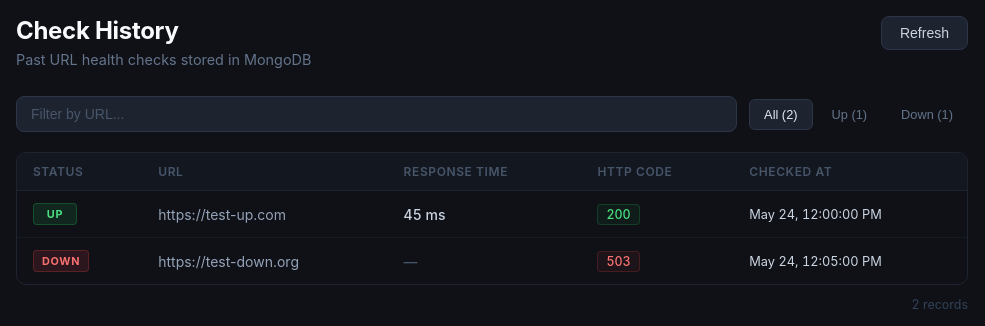
Test case: History Page › url search box filters the list
Expected: the link "https://test-up.com" is shown, [158,206,286,222]
Step 1. Type "down" into the field with placeholder "Filter by URL..." → (377, 114), box [16,96,737,132]
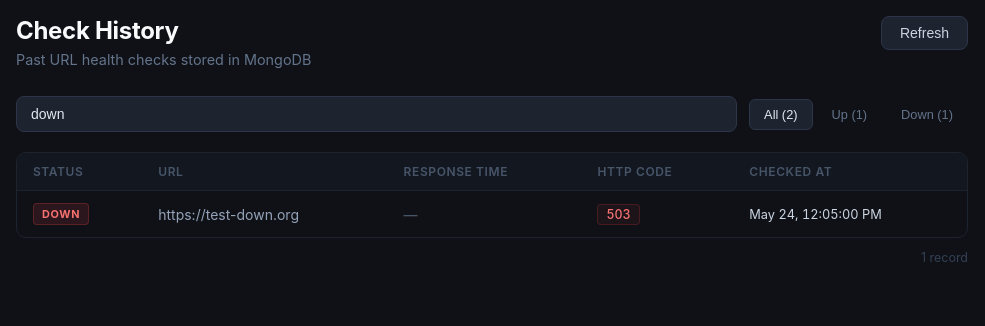
Result: the link "https://test-up.com" is gone
Result: the link "https://test-down.org" is shown at [158,206,299,222]
Result: the text "1 record" is shown at [921,250,968,265]
